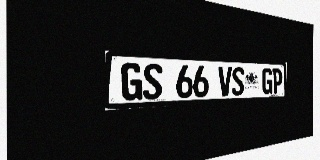6: (176, 64, 193, 98), (193, 65, 208, 98)
G: (121, 62, 142, 101), (262, 68, 272, 94)
P: (273, 68, 282, 94)
S: (143, 63, 162, 100), (232, 67, 244, 96)
V: (219, 66, 232, 96)
